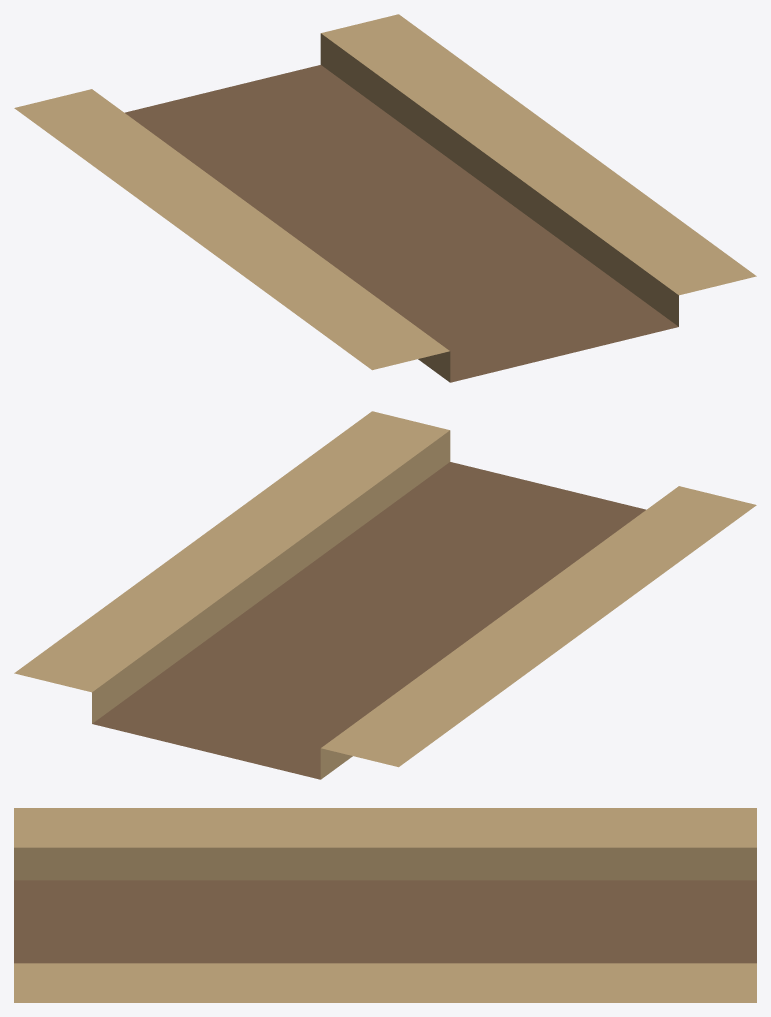
The model's file is Train_stripe 1.fbx.
The picture shows the model from 3 angles, top to bottom: view 1: azimuth 30°, elevation 25°; view 2: azimuth 150°, elevation 25°; view 3: azimuth 270°, elevation 25°; orthographic projection. The views are drawn at different scales.
Parts seen in each view (by area): view 1: Plane; view 2: Plane; view 3: Plane.
Part boxes in pixels (x1,y1,x2,y2): Plane: (14,14,756,382); Plane: (14,411,756,779); Plane: (14,808,756,1002).
Size of the model in its own units: 124 by 9.73 by 200.
